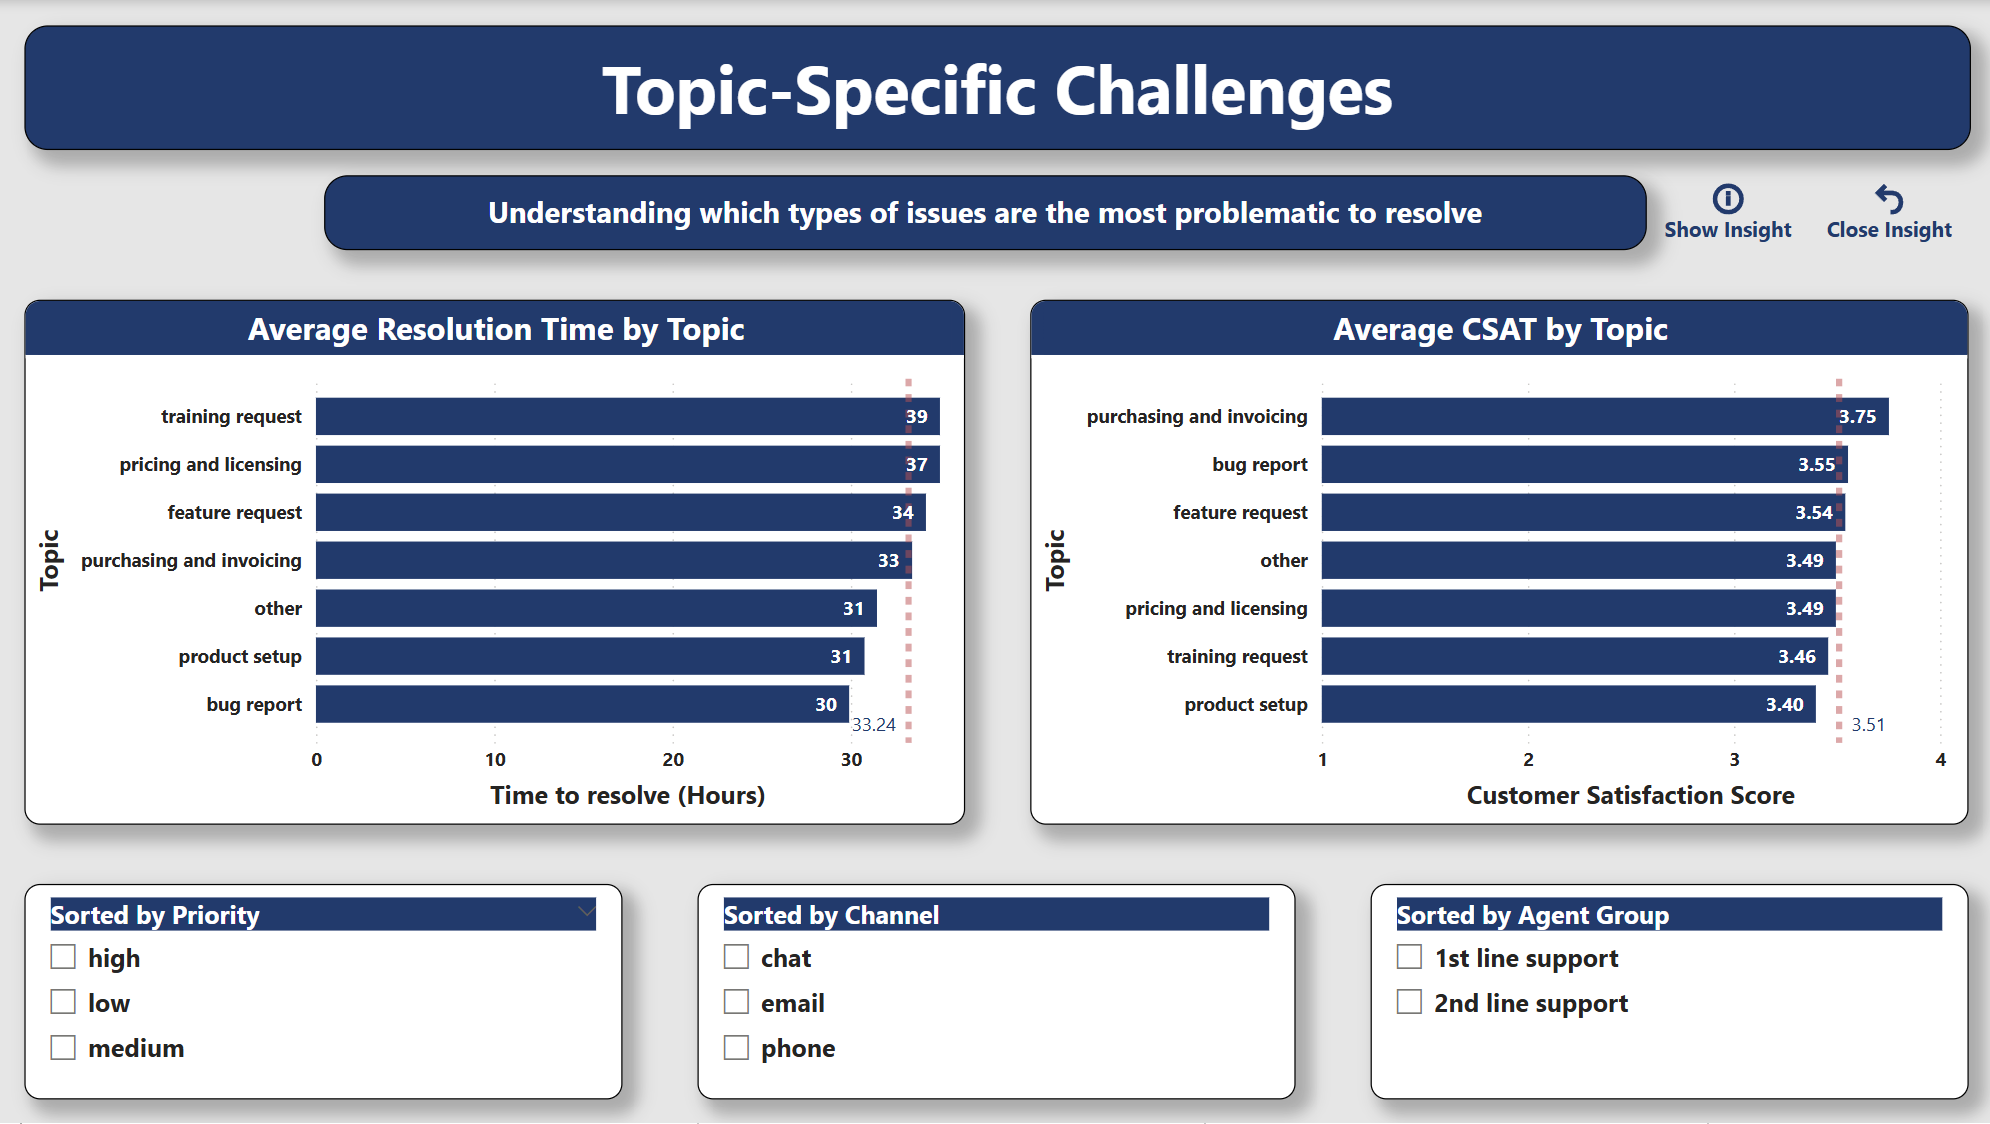

The page's visual inventory and layout, read from the dashboard file:
{"tool":"powerbi","page":{"name":"Topic Analysis","canvas":[1280,720],"ordinal":4},"visuals":[{"type":"textbox","box":[16,16,1248,80],"z":0},{"type":"textbox","box":[208,112,848,48],"z":1000},{"type":"clusteredBarChart","title":"Average Resolution Time by Topic","fields":{"Category":["technical_support_data_engineered.Topic"],"Y":["technical_support_data_engineered.Average Resolution Time (Hours)"]},"box":[16.7,191.7,603.3,336.7],"z":5000},{"type":"clusteredBarChart","title":"Average CSAT by Topic","fields":{"Category":["technical_support_data_engineered.Topic"],"Y":["technical_support_data_engineered.Average CSAT Score"]},"box":[661.7,191.7,601.7,336.7],"z":6000},{"type":"slicer","fields":{"Values":["technical_support_data_engineered.Priority"]},"box":[16.7,566.7,383.3,138.3],"z":7000},{"type":"slicer","fields":{"Values":["technical_support_data_engineered.Source"]},"box":[448.3,566.7,383.3,138.3],"z":8000},{"type":"slicer","fields":{"Values":["technical_support_data_engineered.Agent Group"]},"box":[880,566.7,383.3,138.3],"z":9000},{"type":"actionButton","title":"show insight","box":[1056.7,111.7,103.3,48.3],"z":11000},{"type":"actionButton","title":"hide insight button","box":[1160,111.7,105,48.3],"z":12000}]}

Visuals, with their boxes in screenshot pixels (x1, y1, x2, y2), scaled from the page's 1280x720 canvas onto the 1990x1124 screenshot:
textbox: {"left": 25, "top": 25, "right": 1965, "bottom": 150}
textbox: {"left": 323, "top": 175, "right": 1642, "bottom": 250}
"Average Resolution Time by Topic" clusteredBarChart: {"left": 26, "top": 299, "right": 964, "bottom": 825}
"Average CSAT by Topic" clusteredBarChart: {"left": 1029, "top": 299, "right": 1964, "bottom": 825}
slicer - technical_support_data_engineered.Priority: {"left": 26, "top": 885, "right": 622, "bottom": 1101}
slicer - technical_support_data_engineered.Source: {"left": 697, "top": 885, "right": 1293, "bottom": 1101}
slicer - technical_support_data_engineered.Agent Group: {"left": 1368, "top": 885, "right": 1964, "bottom": 1101}
"show insight" actionButton: {"left": 1643, "top": 174, "right": 1803, "bottom": 250}
"hide insight button" actionButton: {"left": 1803, "top": 174, "right": 1967, "bottom": 250}
